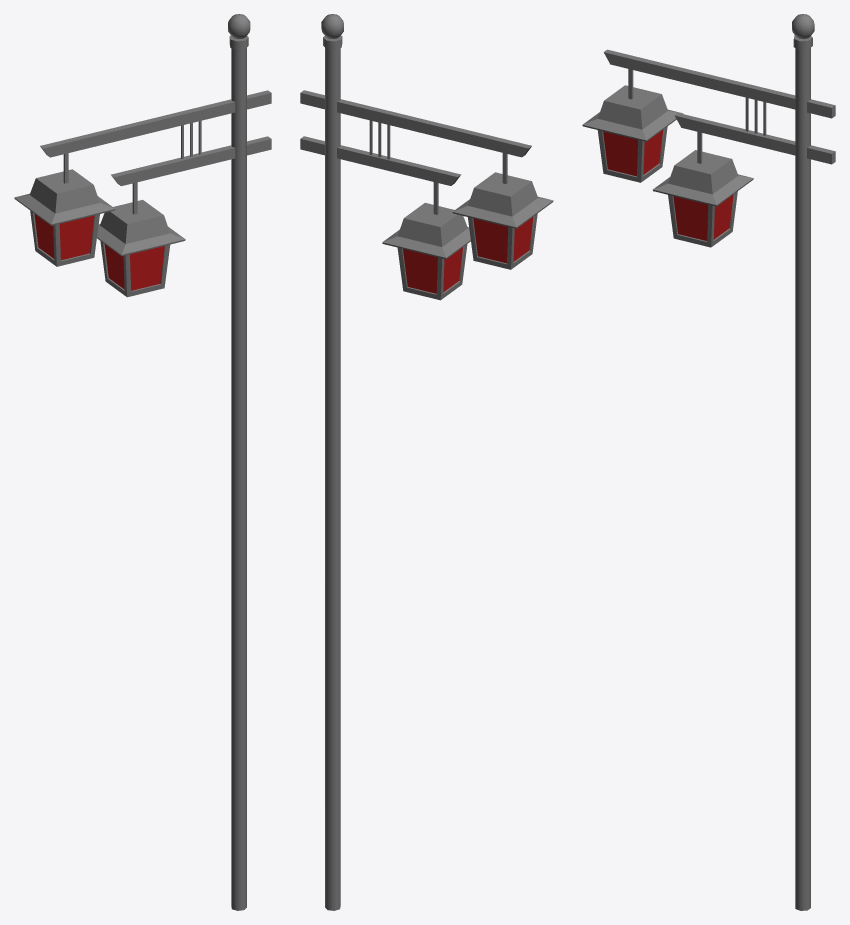
The model's file is SM_lamp_street_e_01.fbx.
The picture shows the model from 3 angles, left to right: view 1: azimuth 30°, elevation 25°; view 2: azimuth 150°, elevation 25°; view 3: azimuth 330°, elevation 25°; orthographic projection.
Visible parts, largest first — view 1: Object1284703; view 2: Object1284703; view 3: Object1284703.
Boxes of the visible parts, x1,y1,x2,y2 form: Object1284703: (14,14,271,910); Object1284703: (300,14,553,910); Object1284703: (582,14,835,910).
Bounding box in the file's own units: 63.79 × 232 × 17.4.
